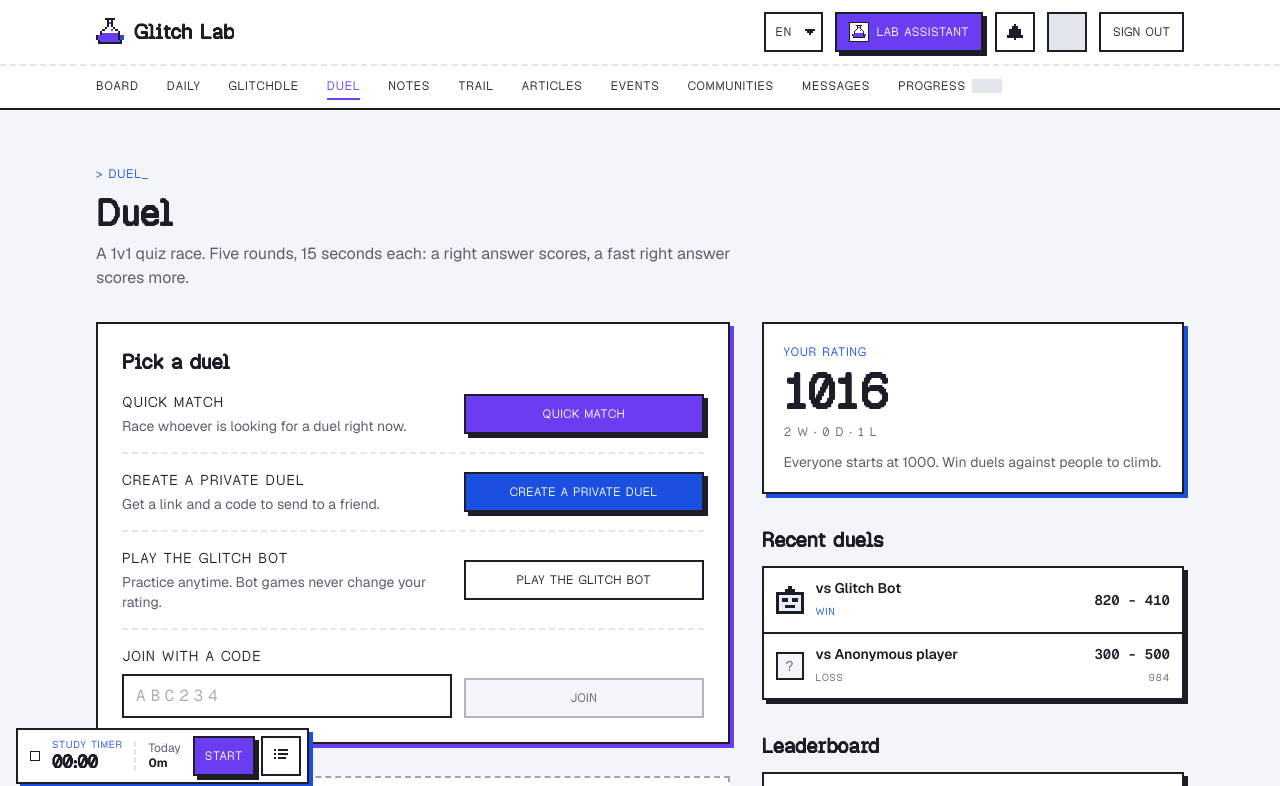
starts a quick match and opens the waiting room
Click the button "Quick match" at (584, 414), box x1=464 y1=394 x2=704 y2=434
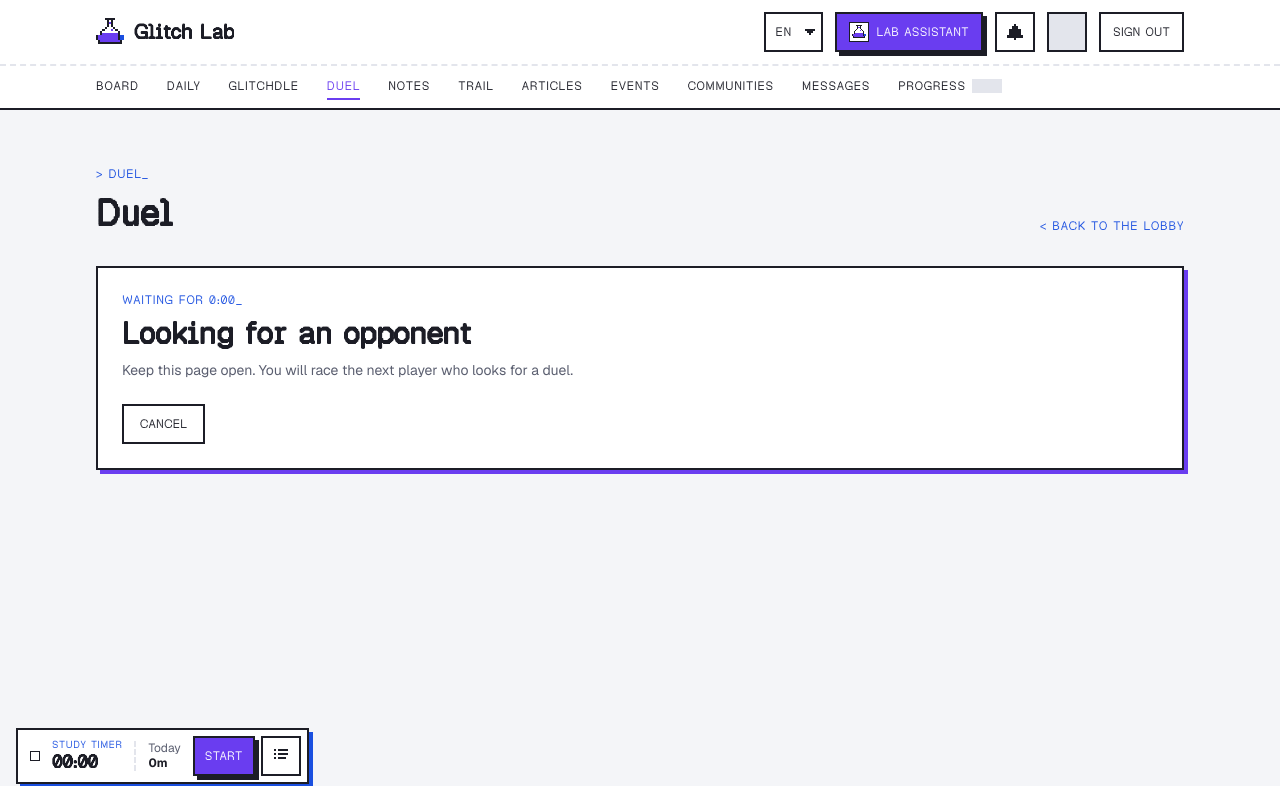
Result: the heading "Looking for an opponent" is shown at x1=122 y1=314 x2=471 y2=353
